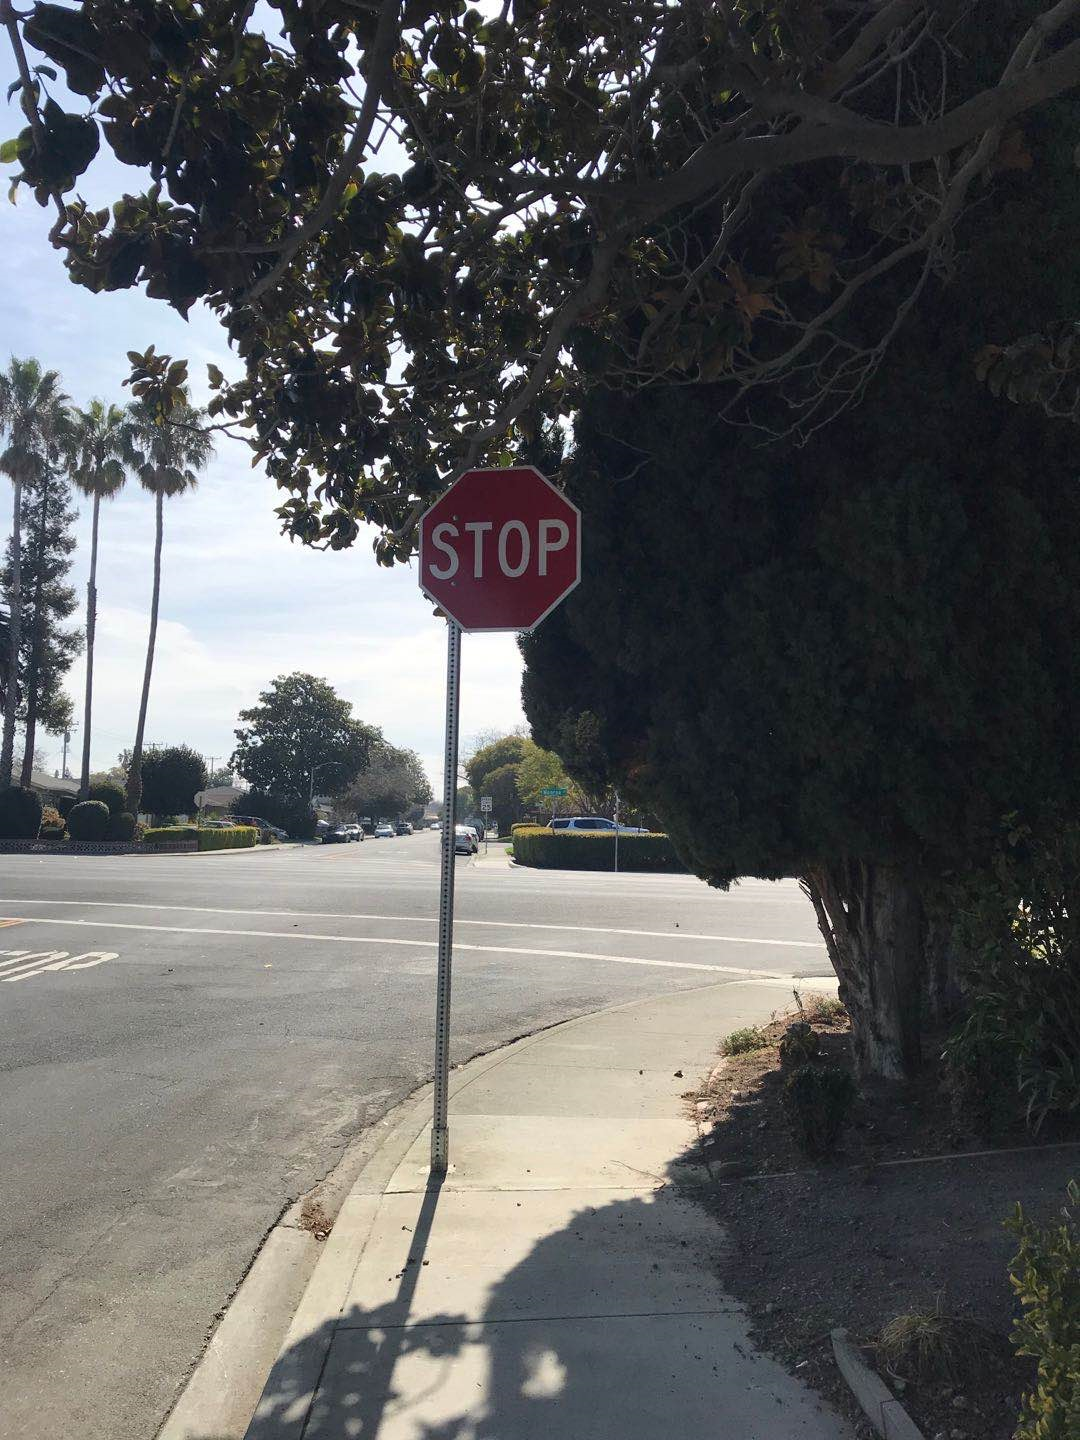stop_sign: (414, 469, 580, 633)
